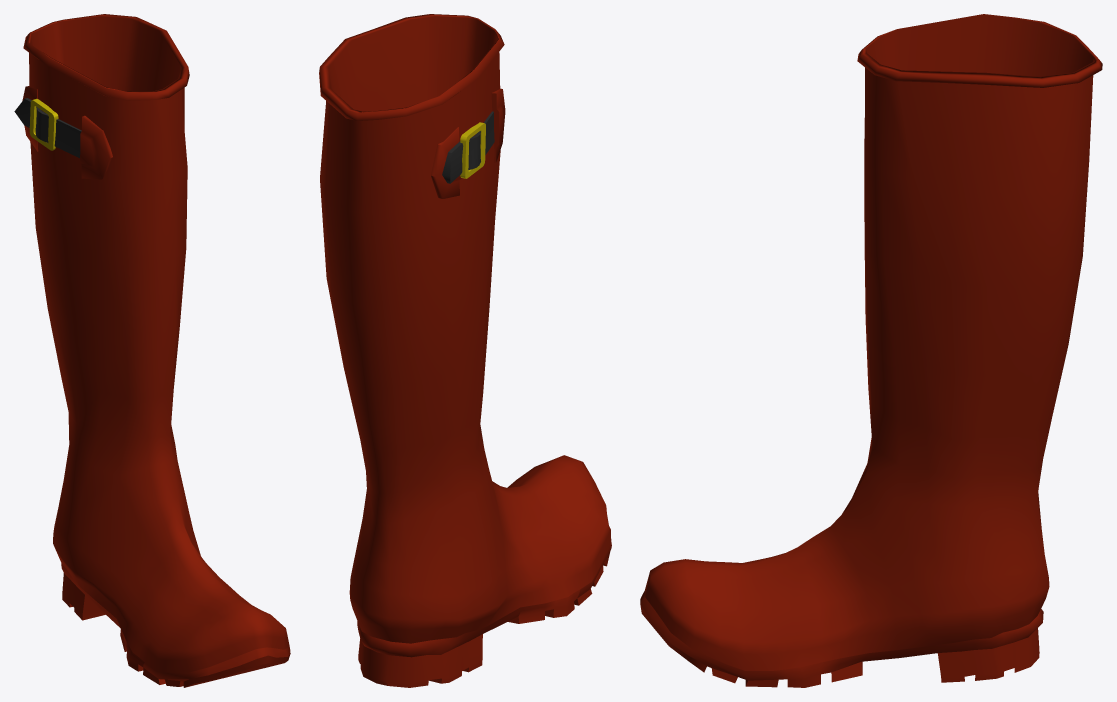
The model's file is BOOT.fbx.
3 renders of one model, left to right at view 1: azimuth 30°, elevation 25°; view 2: azimuth 150°, elevation 25°; view 3: azimuth 270°, elevation 25°, orthographic. The views are drawn at different scales.
Parts seen in each view (by area): view 1: Botte1; view 2: Botte1; view 3: Botte1.
Part boxes in pixels (x1=…): Botte1: x1=14, y1=14, x2=290, y2=687; Botte1: x1=319, y1=14, x2=611, y2=687; Botte1: x1=640, y1=14, x2=1102, y2=687.
Bounding box in the file's own units: 2.57 × 10.82 × 7.38.
